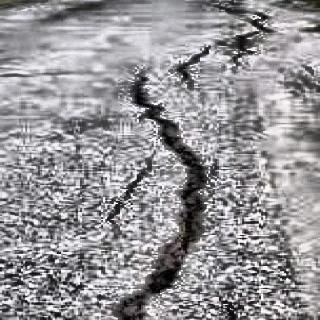crack: (110, 72, 206, 320), (224, 11, 274, 65), (162, 36, 214, 81)
